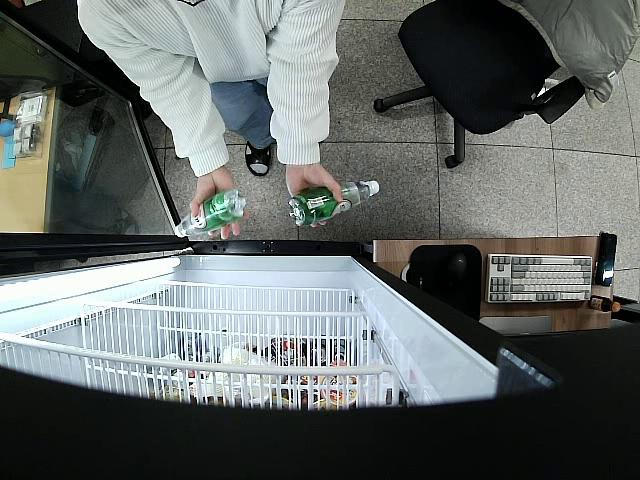00_hand: (285, 168, 348, 229), (191, 170, 244, 240)
18_trevi: (289, 181, 380, 221), (172, 189, 249, 236)
